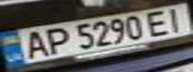0: (124, 12, 148, 41)
2: (90, 18, 115, 48)
5: (72, 20, 96, 51)
9: (109, 16, 130, 45)
A: (15, 28, 51, 60)
E: (142, 8, 175, 36)
I: (160, 4, 193, 33)
P: (39, 25, 72, 55)
